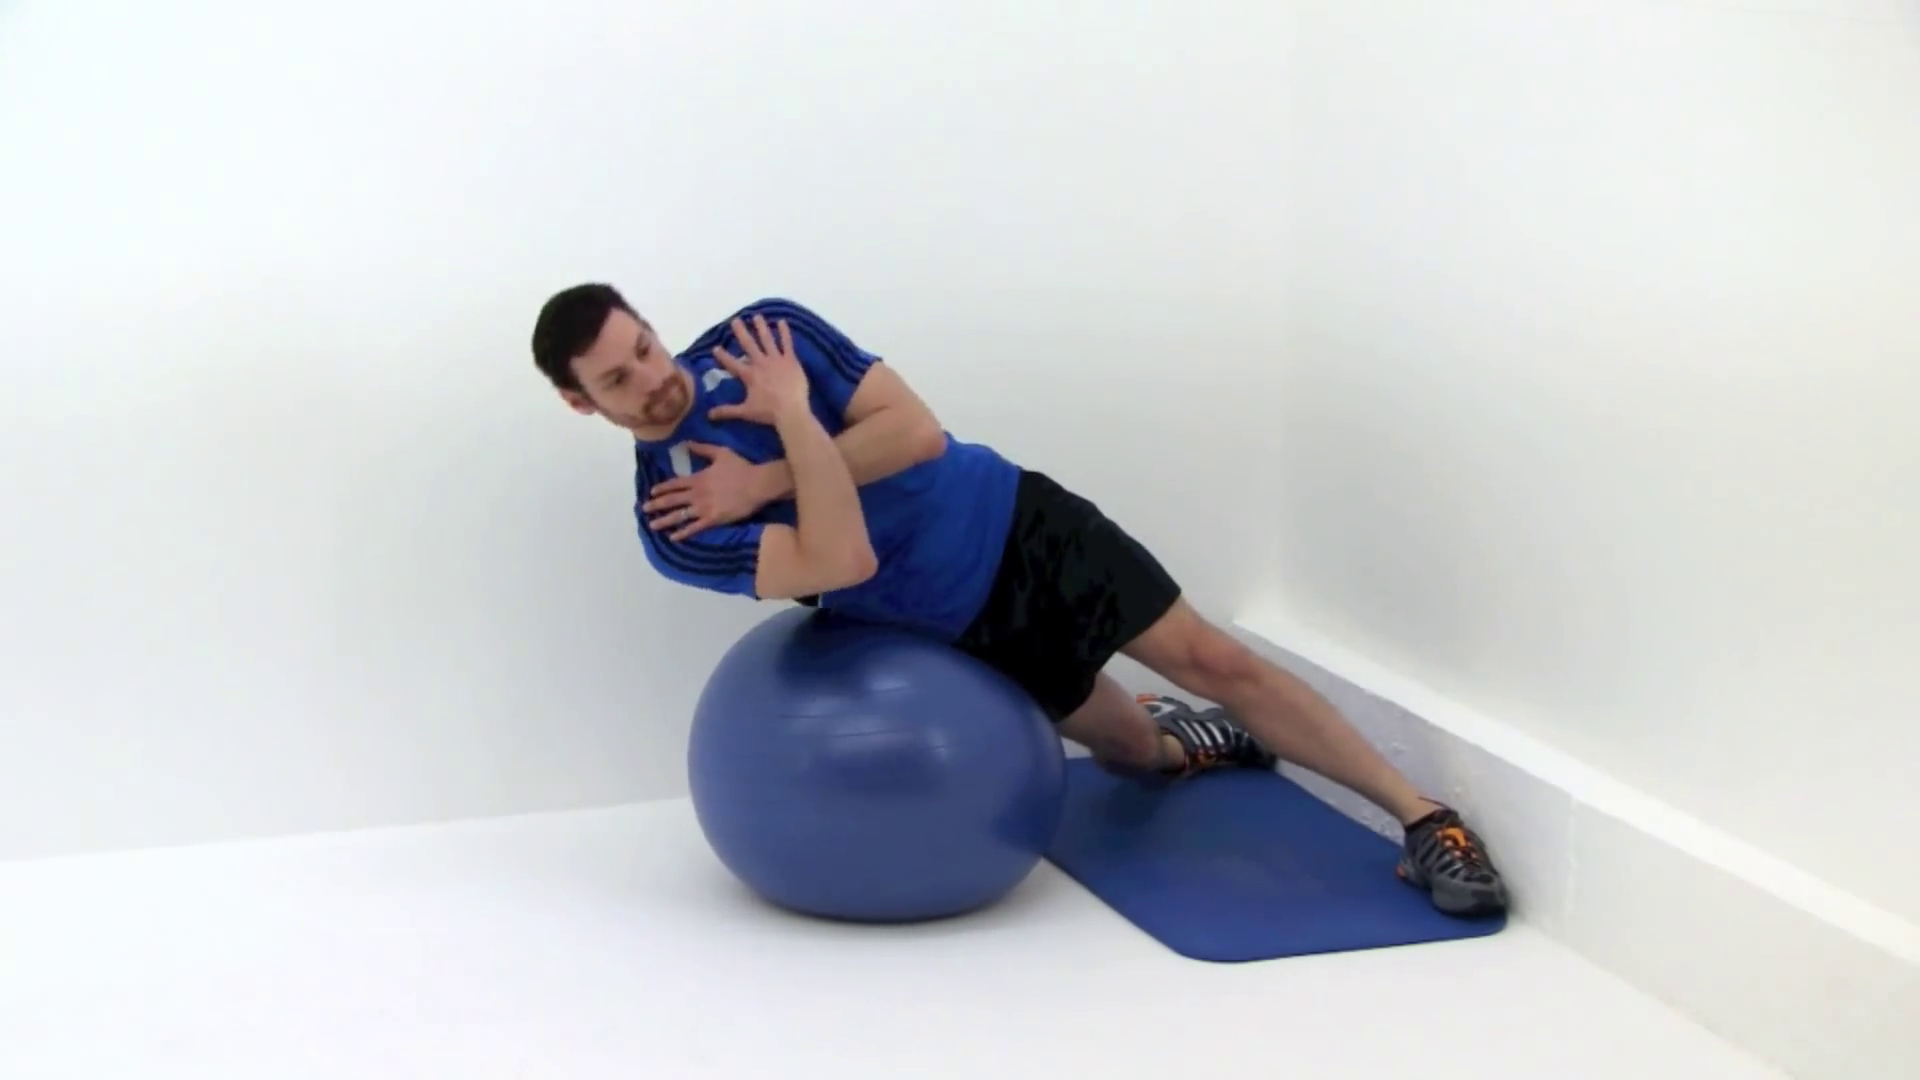yogaball: (673, 600, 1081, 930)
